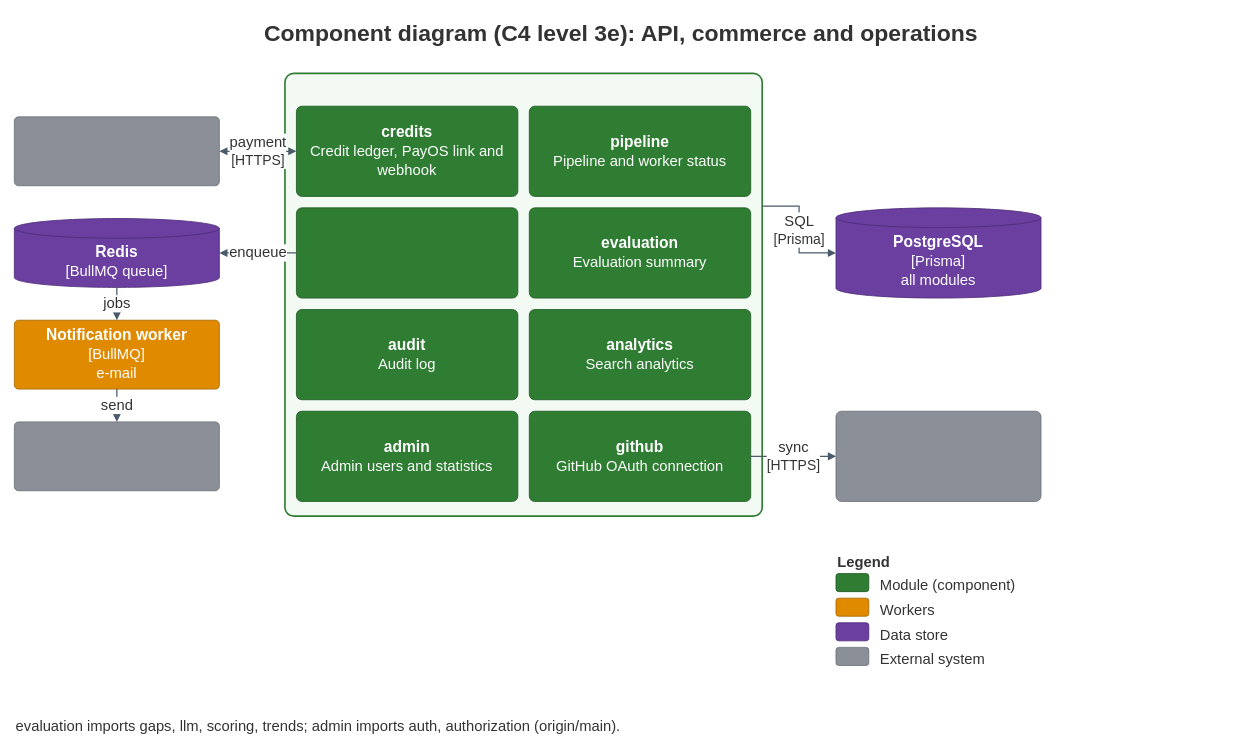
This 1242x751 diagram has some shape labels left out. Here are the shapes that lost their labels. From the top down, the box of each, then its label:
(14, 116, 219, 186): PayOS [HTTPS] payment link, webhook
(296, 207, 518, 298): notifications In-app notifications, mail queue
(284, 72, 763, 517): Commerce and operations modules
(14, 421, 219, 491): SMTP server [SMTP] e-mail
(835, 410, 1041, 501): GitHub «optional» [HTTPS] api.github.com
